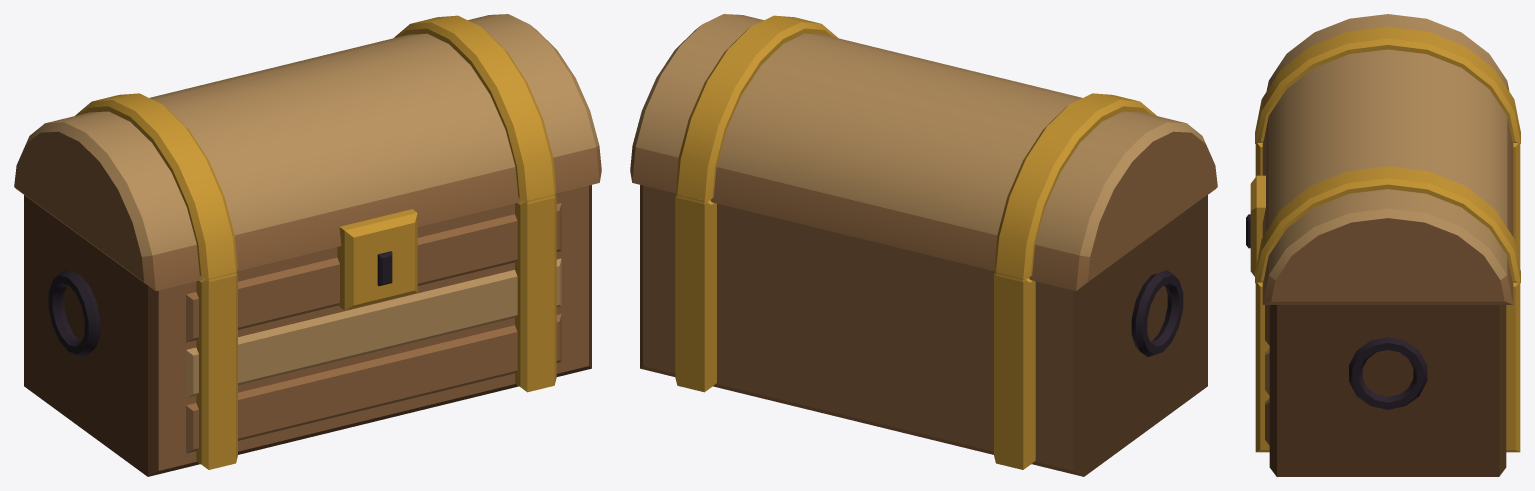
Rendered from Chest_10.glb.
3 views of the same model, side by side, from view 1: azimuth 30°, elevation 25°; view 2: azimuth 150°, elevation 25°; view 3: azimuth 270°, elevation 25° (orthographic). The views are drawn at different scales.
Parts seen in each view (by area): view 1: Chest_10; view 2: Chest_10; view 3: Chest_10.
Boxes of the visible parts, x1,y1,x2,y2 form: Chest_10: [14, 14, 601, 476]; Chest_10: [630, 14, 1217, 476]; Chest_10: [1246, 14, 1520, 476].
Bounding box in the file's own units: 4.19 × 2.59 × 2.32.
